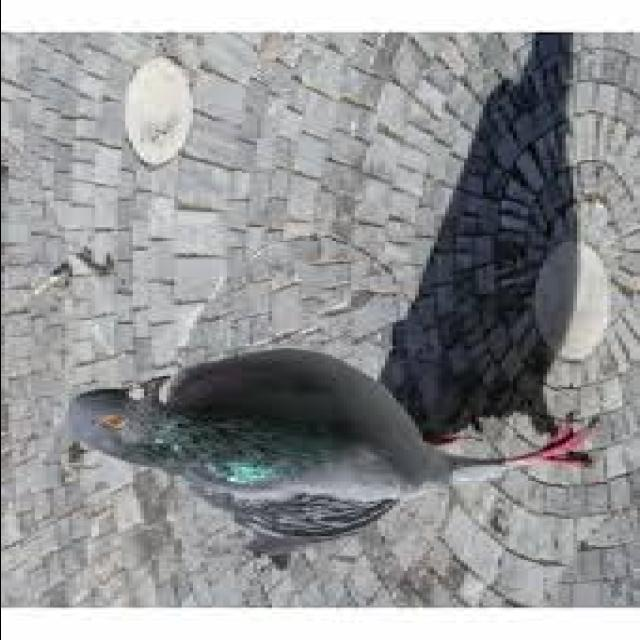pigeon: (40, 340, 575, 576)
